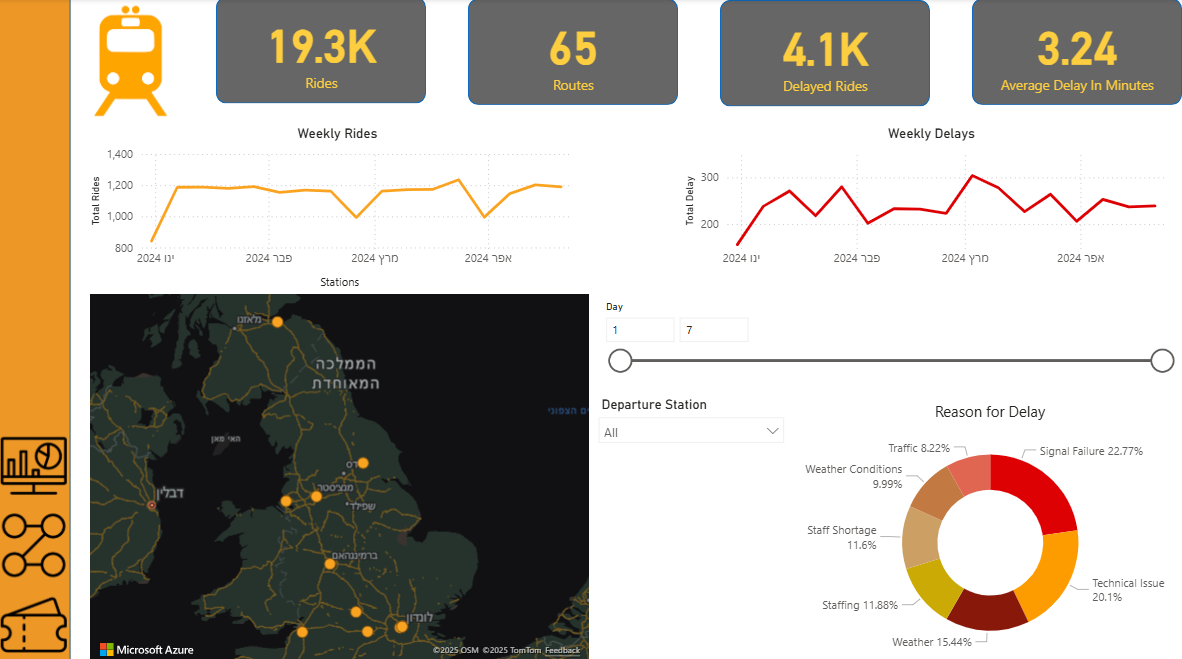

Layout of this report page (visuals, bound fields, positions):
{"tool":"powerbi","page":{"name":"Rides","canvas":[1280,720],"ordinal":2},"visuals":[{"type":"shape","box":[0,0,79.3,720.6],"z":0},{"type":"actionButton","box":[0,463.1,79.3,85.8],"z":1000},{"type":"actionButton","box":[0,548.9,79.3,85.8],"z":2000},{"type":"actionButton","box":[0,634.2,79.3,85.8],"z":3000},{"type":"group","id":"g1","title":"Group 2","box":[236.4,0,226.7,115],"z":4000},{"type":"shape","box":[236.4,0,226.7,115],"z":4001,"group":"g1"},{"type":"shape","box":[508.7,1.6,226.7,115],"z":4001,"group":"g2"},{"type":"shape","box":[1053.3,1.6,226.7,115],"z":4001,"group":"g3"},{"type":"shape","box":[781,3.2,226.7,115],"z":4001,"group":"g4"},{"type":"card","fields":{"Values":["Mesure Table.Total Rides"]},"box":[236.4,0,226.7,115],"z":4501,"group":"g1"},{"type":"card","fields":{"Values":["Mesure Table.Num of Routes"]},"box":[508.7,1.6,226.7,115],"z":4501,"group":"g2"},{"type":"card","fields":{"Values":["Mesure Table.Average Delay Minutes"]},"box":[1053.3,1.6,226.7,115],"z":4501,"group":"g3"},{"type":"card","fields":{"Values":["Mesure Table.Total Delay"]},"box":[781,3.2,226.7,115],"z":4501,"group":"g4"},{"type":"group","id":"g2","title":"Group 2","box":[508.7,1.6,226.7,115],"z":5000},{"type":"azureMap","fields":{"Values":["railway.Departure Station"],"Category":["railway.Departure Station"]},"box":[95.5,299.6,548.9,421],"z":6000},{"type":"group","id":"g3","title":"Group 2","box":[1053.3,1.6,226.7,115],"z":7000},{"type":"image","box":[79,0,129.6,137.7],"z":8000},{"type":"group","id":"g4","title":"Group 2","box":[781,3.2,226.7,115],"z":9000},{"type":"donutChart","title":"Reason for Delay","fields":{"Category":["railway.Reason for Delay"],"Y":["Mesure Table.Total Rides"]},"box":[864.7,435.6,414.5,285],"z":10000},{"type":"lineChart","title":"Weekly Delays","fields":{"Category":["railway.Start of Week - Journey"],"Y":["Mesure Table.Total Delay"]},"box":[736.6,139,544,160.8],"z":11000},{"type":"lineChart","title":"Weekly Rides","fields":{"Category":["railway.Start of Week - Journey"],"Y":["Mesure Table.Total Rides"]},"box":[95.3,139,544,160.8],"z":12000},{"type":"slicer","fields":{"Values":["railway.Day of Week - Purchase"]},"box":[644.5,322.2,634.7,113.3],"z":13000},{"type":"slicer","fields":{"Values":["railway.Departure Station"]},"box":[639.6,425.9,220.2,74.5],"z":14000}]}

Visuals, with their boxes on the page's 1280x720 design canvas (x1, y1, x2, y2). These are canvas units, not pixel positions in the 1182x659 screenshot, which may show the page scaled, cropped or inside an application window:
shape: left=0, top=0, right=79, bottom=721
actionButton: left=0, top=463, right=79, bottom=549
actionButton: left=0, top=549, right=79, bottom=635
actionButton: left=0, top=634, right=79, bottom=720
"Group 2" group: left=236, top=0, right=463, bottom=115
shape: left=236, top=0, right=463, bottom=115
shape: left=509, top=2, right=735, bottom=117
shape: left=1053, top=2, right=1280, bottom=117
shape: left=781, top=3, right=1008, bottom=118
card - Mesure Table.Total Rides: left=236, top=0, right=463, bottom=115
card - Mesure Table.Num of Routes: left=509, top=2, right=735, bottom=117
card - Mesure Table.Average Delay Minutes: left=1053, top=2, right=1280, bottom=117
card - Mesure Table.Total Delay: left=781, top=3, right=1008, bottom=118
"Group 2" group: left=509, top=2, right=735, bottom=117
azureMap - railway.Departure Station x railway.Departure Station: left=96, top=300, right=644, bottom=721
"Group 2" group: left=1053, top=2, right=1280, bottom=117
image: left=79, top=0, right=209, bottom=138
"Group 2" group: left=781, top=3, right=1008, bottom=118
"Reason for Delay" donutChart: left=865, top=436, right=1279, bottom=721
"Weekly Delays" lineChart: left=737, top=139, right=1281, bottom=300
"Weekly Rides" lineChart: left=95, top=139, right=639, bottom=300
slicer - railway.Day of Week - Purchase: left=644, top=322, right=1279, bottom=436
slicer - railway.Departure Station: left=640, top=426, right=860, bottom=500
